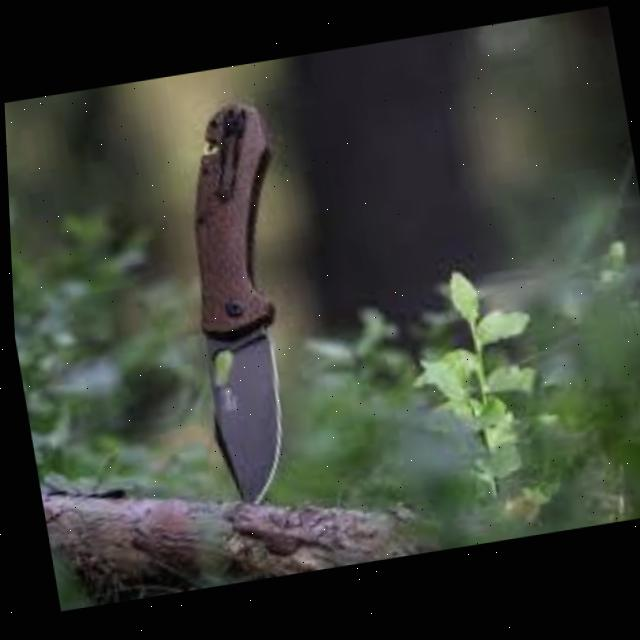knife: (158, 94, 328, 512)
